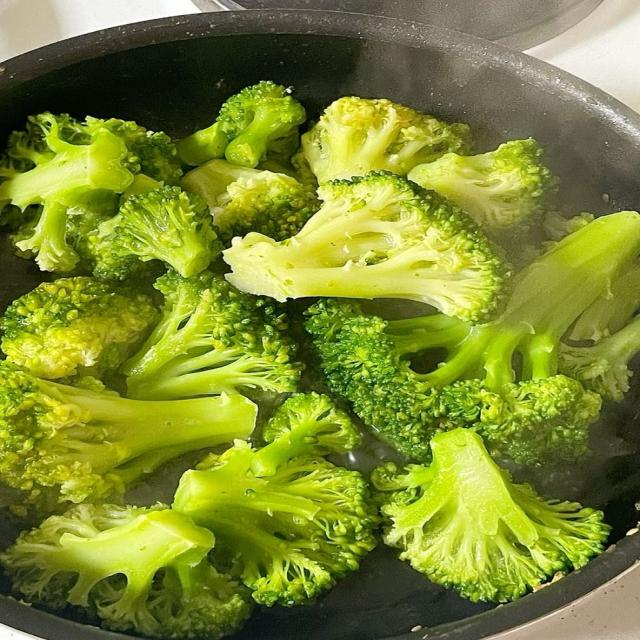broccoli: (307, 212, 639, 463), (223, 172, 507, 320), (373, 429, 610, 601), (174, 423, 378, 606), (0, 362, 257, 502), (0, 505, 251, 639), (0, 113, 181, 272), (123, 271, 300, 399), (0, 113, 136, 272), (0, 276, 158, 378), (296, 97, 470, 183), (409, 139, 556, 236), (91, 186, 219, 279), (183, 160, 319, 246), (177, 81, 306, 167), (254, 392, 361, 475), (560, 317, 639, 401), (86, 117, 182, 185), (569, 263, 639, 341), (540, 211, 594, 243)
